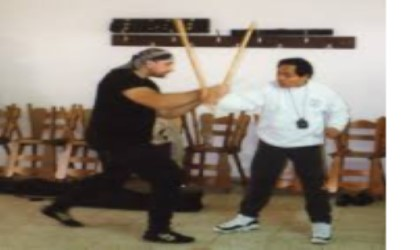baston_e: (221, 27, 252, 90), (175, 29, 210, 84)
baston_v: (246, 12, 262, 34), (167, 15, 186, 27)
